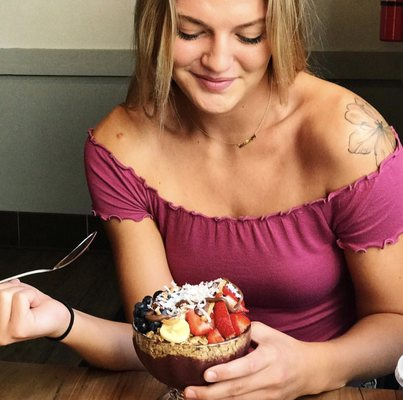burger: (0, 232, 98, 284)
